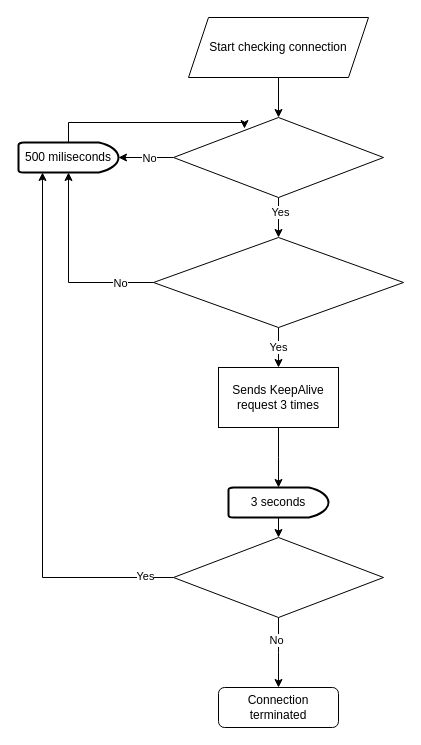
The diagram is 421 pixels wide and 745 high, and some of its shapes have lost their labels. Here are the shapes that lost their labels. From the top down, the centre of each, then its label:
At [278,157]: "Is transmission going?".
At [278,282]: "Is the latest fragment received more than 3 seconds ago?".
At [278,577]: "Is at least one request responded?".
